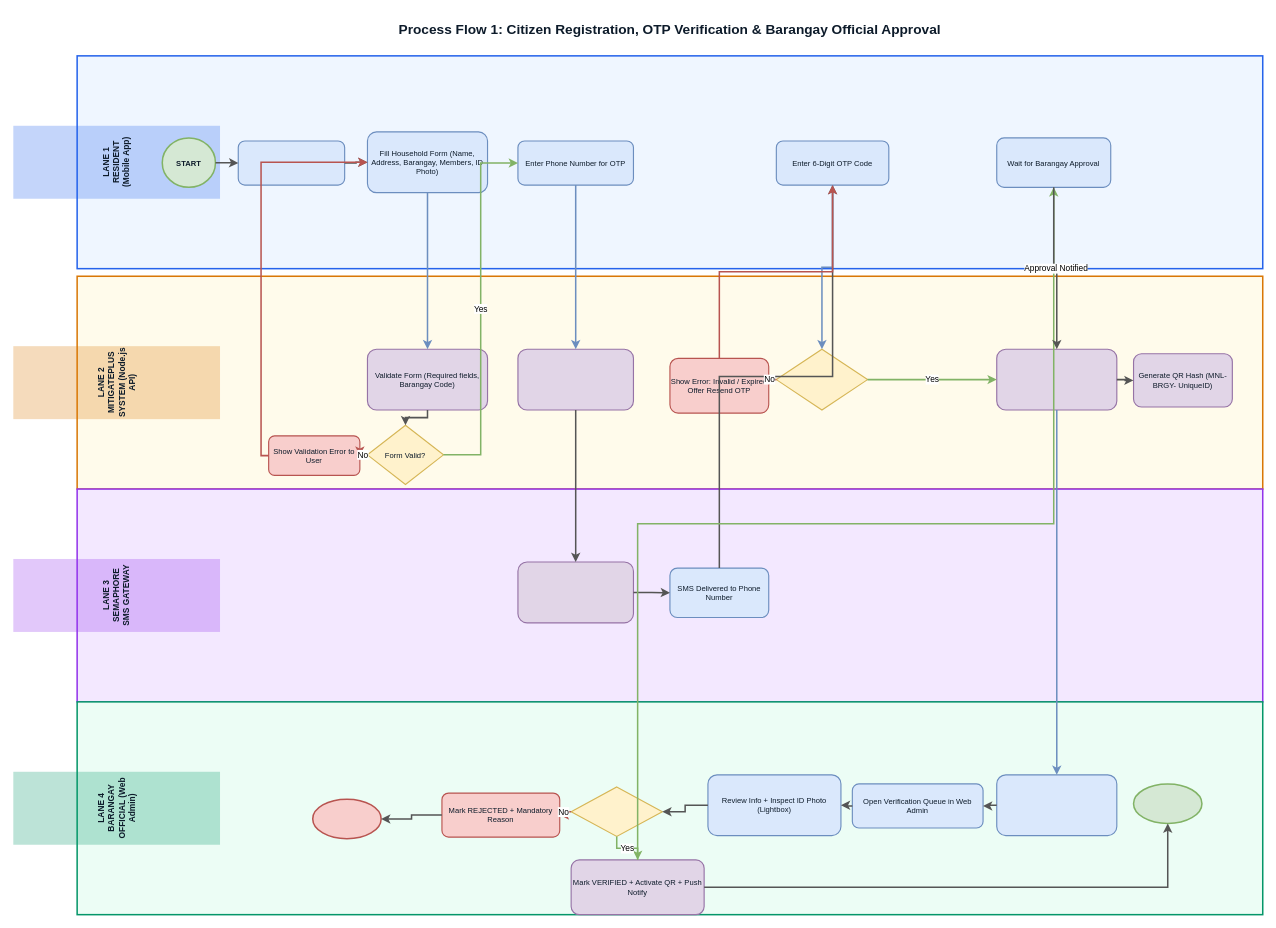
Some shapes in this 1276 by 928 pixel diagram are drawn without their labels. The box of each missing label's shape, as (x1, y1, x2, y2) in pixels:
Approve?: (570, 786, 663, 837)
Create User + Household Record (status: PENDING): (996, 348, 1117, 410)
Dispatch OTP via Semaphore SMS API (PH): (517, 561, 634, 623)
END (Rejected): (312, 798, 382, 839)
END (Verified): (1132, 783, 1202, 824)
Generate 6-Digit OTP (Crypto, 5-min): (517, 348, 634, 410)
Open App Tap Register: (237, 140, 345, 185)
OTP Correct & Not Expired?: (775, 348, 868, 410)
Receive Notification: New Pending Verification: (996, 774, 1117, 836)
